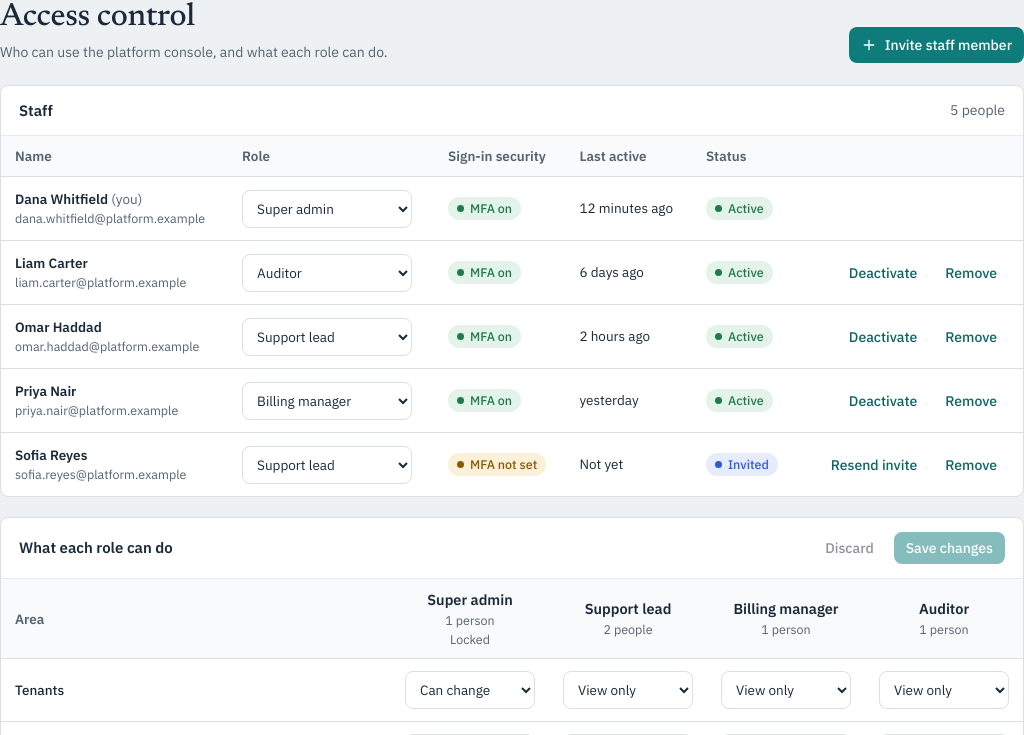
Test: row actions › reactivates without asking
Expected: the column heading "Super admin 1 person Locked" is shown, x1=391 y1=579 x2=549 y2=659
Click the button named "Deactivate Liam Carter" at {"x": 883, "y": 273}, box x1=837 y1=257 x2=929 y2=289
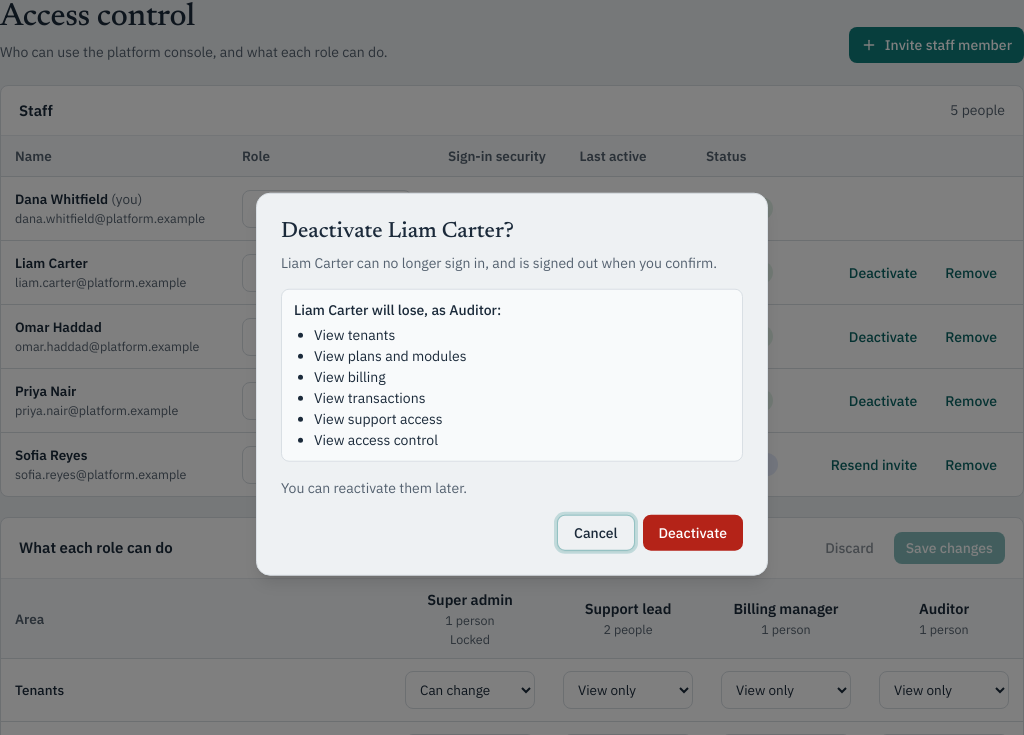
Click the button "Deactivate" at {"x": 693, "y": 532}, box x1=642 y1=514 x2=743 y2=550
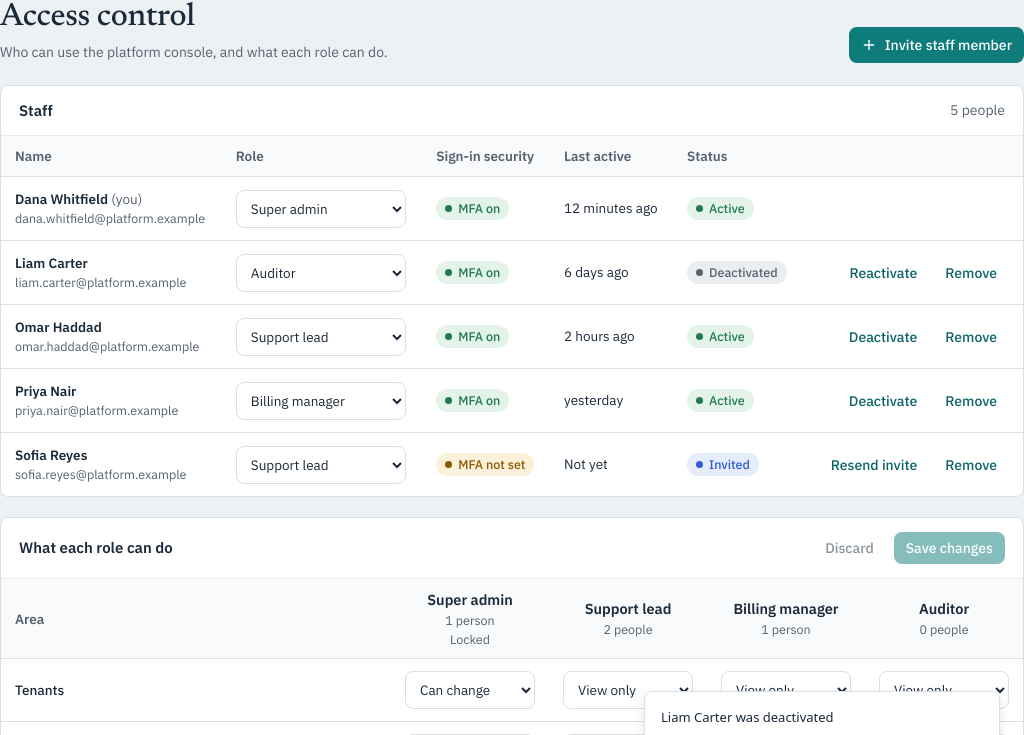
Click the button named "Reactivate Liam Carter" at {"x": 883, "y": 273}, box x1=838 y1=257 x2=929 y2=289
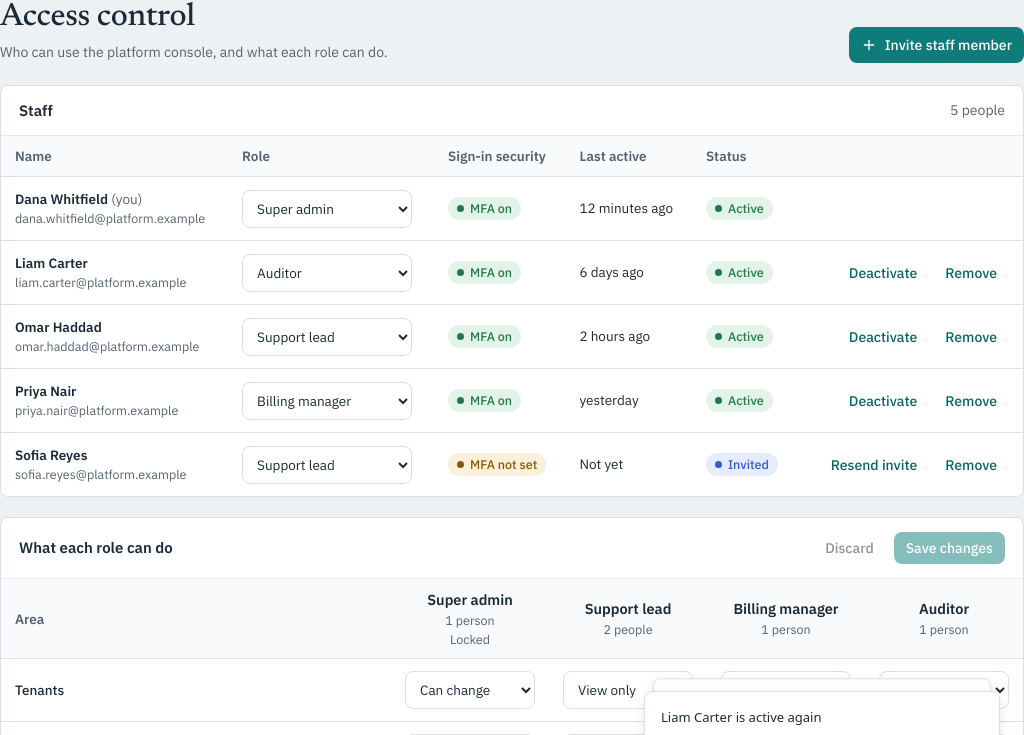
Expected: the text "Liam Carter is active again" is shown, x1=661 y1=708 x2=822 y2=727
